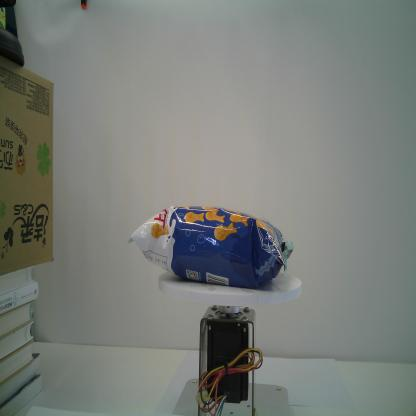Puffed Food: (126, 205, 294, 289)
